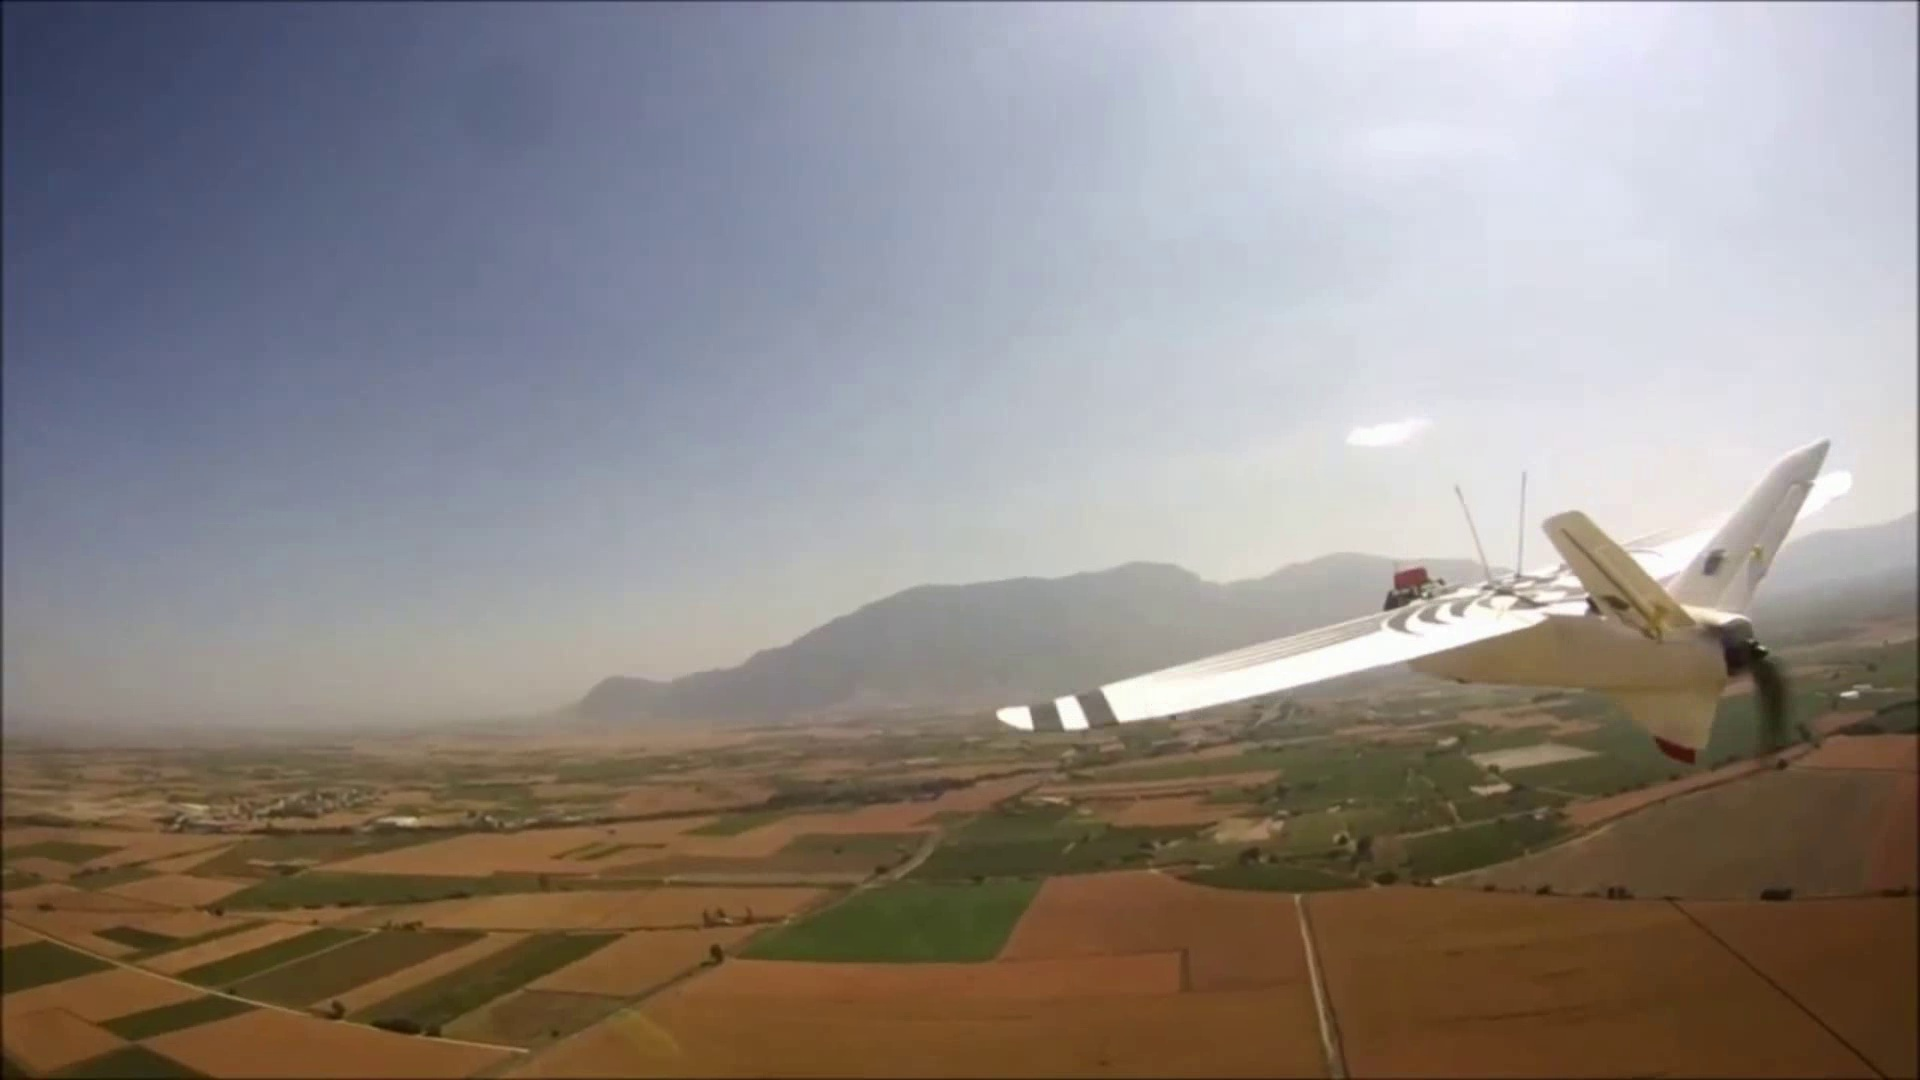airplane: (16, 431, 1907, 946), (1466, 437, 1913, 769)
